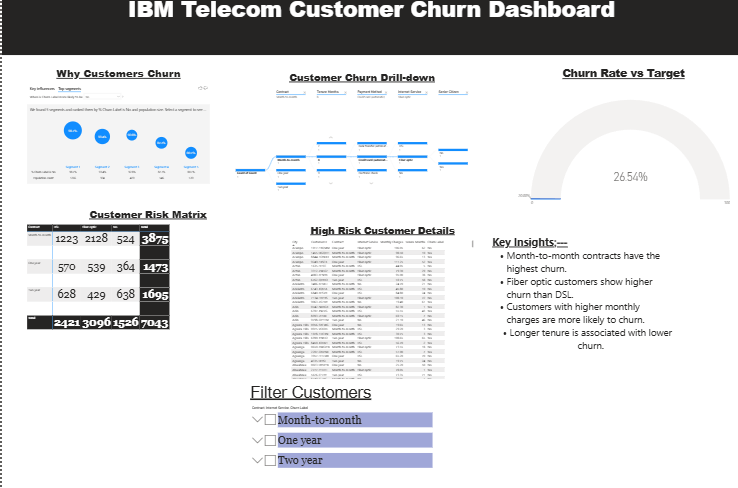

This screenshot's page, from the dashboard's own definition file:
{"tool":"powerbi","page":{"name":"CHURN INTELLIGENCE","canvas":[3280,2220],"ordinal":2},"visuals":[{"type":"keyDriversVisual","title":"Why Customers Churn","fields":{"Target":["Telco-Customer-churn.Churn Label"],"ExplainBy":["Telco-Customer-churn.Contract","Telco-Customer-churn.Monthly Charges","Telco-Customer-churn.Payment Method","Telco-Customer-churn.Senior Citizen","Telco-Customer-churn.Tenure Months","Telco-Customer-churn.Internet Service"]},"box":[106.6,328.6,821.4,528.4],"z":0},{"type":"decompositionTreeVisual","title":"Customer Churn Drill-down","fields":{"Analyze":["Count(Telco-Customer-churn.Count)"],"ExplainBy":["Telco-Customer-churn.Contract","Telco-Customer-churn.Tenure Months","Telco-Customer-churn.Payment Method","Telco-Customer-churn.Internet Service","Telco-Customer-churn.Senior Citizen"]},"box":[1007.9,346.3,1181,794.8],"z":1000},{"type":"pivotTable","title":"Customer Risk Matrix","fields":{"Rows":["Telco-Customer-churn.Contract"],"Columns":["Telco-Customer-churn.Internet Service"],"Values":["CountNonNull(Telco-Customer-churn.Count)"]},"box":[106.6,954.6,1083.4,595],"z":2000},{"type":"tableEx","title":"High Risk Customer Details","fields":{"Values":["Telco-Customer-churn.City","Telco-Customer-churn.CustomerID","Telco-Customer-churn.Contract","Telco-Customer-churn.Internet Service","Telco-Customer-churn.Monthly Charges","Telco-Customer-churn.Tenure Months","Telco-Customer-churn.Churn Label"]},"box":[1278.7,1025.6,821.4,697.1],"z":3000},{"type":"gauge","title":"Churn Rate vs Target","fields":{"Y":["Telco-Customer-churn.Churn Rate"],"TargetValue":["Telco-Customer-churn.Target Churn Rate"],"MaxValue":["Telco-Customer-churn.Maximum Churn"],"MinValue":["Telco-Customer-churn.Minimum Churn"]},"box":[2282.2,328.6,954.6,697.1],"z":4000},{"type":"textbox","box":[2171.2,1070,821.4,652.7],"z":5000},{"type":"slicer","title":"Filter Customers","fields":{"Values":["Telco-Customer-churn.Contract","Telco-Customer-churn.Internet Service","Telco-Customer-churn.Churn Label"]},"box":[1096.7,1722.7,820,450],"z":6000},{"type":"textbox","box":[0,0,3281.2,279.7],"z":6001}]}

Visuals, with their boxes in screenshot pixels (x1, y1, x2, y2), scaled from the page's 3280x2220 canvas onto the 738x488 screenshot:
"Why Customers Churn" keyDriversVisual: {"x1": 24, "y1": 72, "x2": 209, "y2": 188}
"Customer Churn Drill-down" decompositionTreeVisual: {"x1": 227, "y1": 76, "x2": 493, "y2": 251}
"Customer Risk Matrix" pivotTable: {"x1": 24, "y1": 210, "x2": 268, "y2": 341}
"High Risk Customer Details" tableEx: {"x1": 288, "y1": 225, "x2": 473, "y2": 379}
"Churn Rate vs Target" gauge: {"x1": 513, "y1": 72, "x2": 728, "y2": 225}
textbox: {"x1": 489, "y1": 235, "x2": 673, "y2": 379}
"Filter Customers" slicer: {"x1": 247, "y1": 379, "x2": 431, "y2": 478}
textbox: {"x1": 0, "y1": 0, "x2": 737, "y2": 61}
